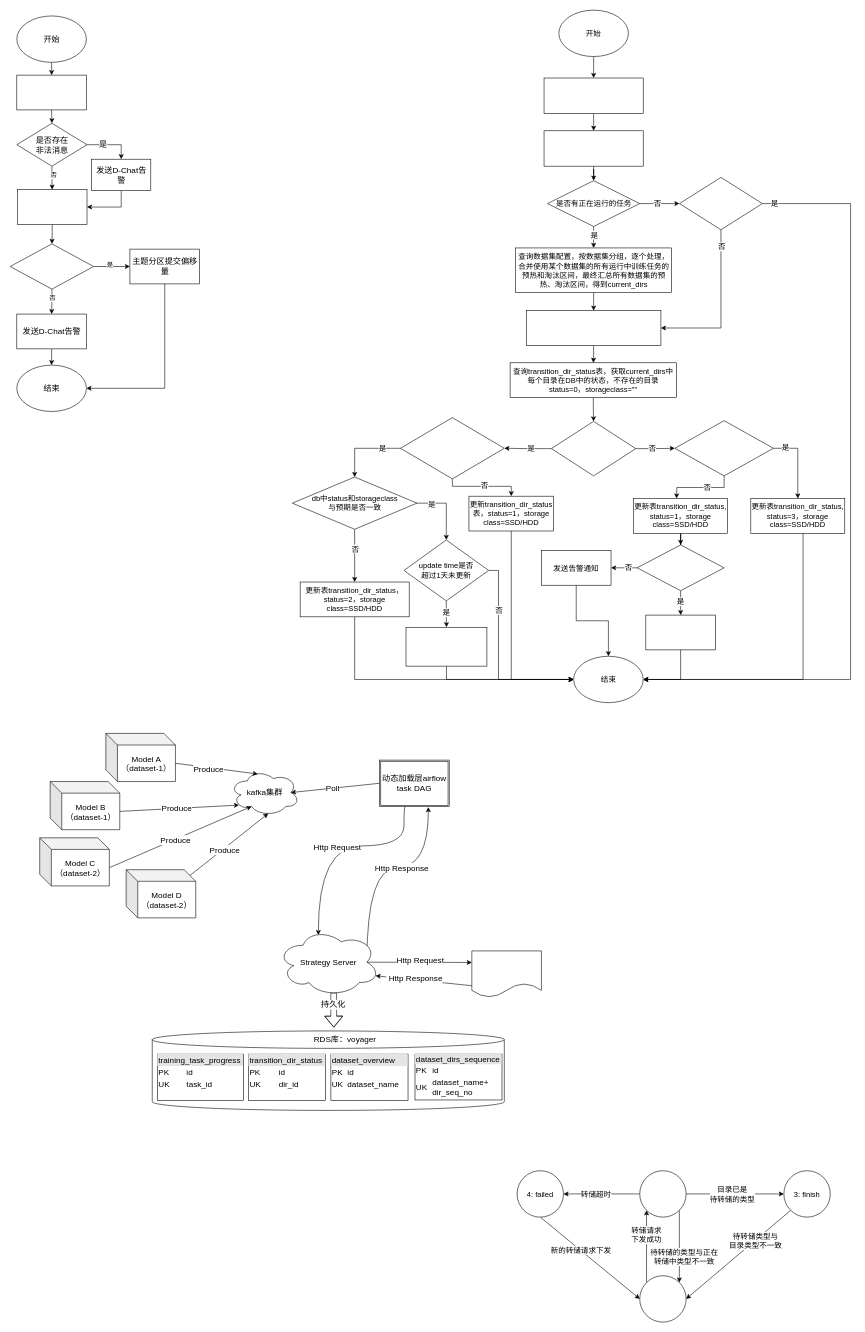
Some shapes in this 865 by 1332 pixel diagram are drawn without their labels. The box of each missing label's shape, as (x1, y1, x2, y2) in pixels:
1: init: (639, 1275, 686, 1322)
2: running: (639, 1170, 686, 1217)
current_dirs与existed_dirs合并: (526, 310, 661, 345)
existed_dirs是否为空: (679, 177, 762, 230)
下发目录转储 请求，是否成功: (637, 544, 724, 591)
分级存储转储服务: (471, 950, 541, 997)
合法消息封装请求，发送到Http Server: (17, 189, 87, 224)
待转储的目录类型与 底层转储中的是否一致: (400, 417, 504, 479)
按主题分区拉取消息，校验合法性: (16, 75, 86, 110)
更新表transition_dir_status, status=2: (645, 615, 715, 650)
更新表transition_dir_status， status=4，发送转储超时告警: (405, 627, 487, 666)
查询 training_task_progress表，获取所有运行中的任务: (543, 130, 643, 166)
查询transition_dir_status表，获取status=1和2目录，记为existed_dirs: (543, 77, 643, 113)
查询底层接口， 待转储目录类型与底层真正的类型是否一致: (674, 420, 773, 476)
查询底层接口， 目录是否在转储中: (551, 421, 636, 476)
请求是否发送成功: (10, 243, 94, 289)
